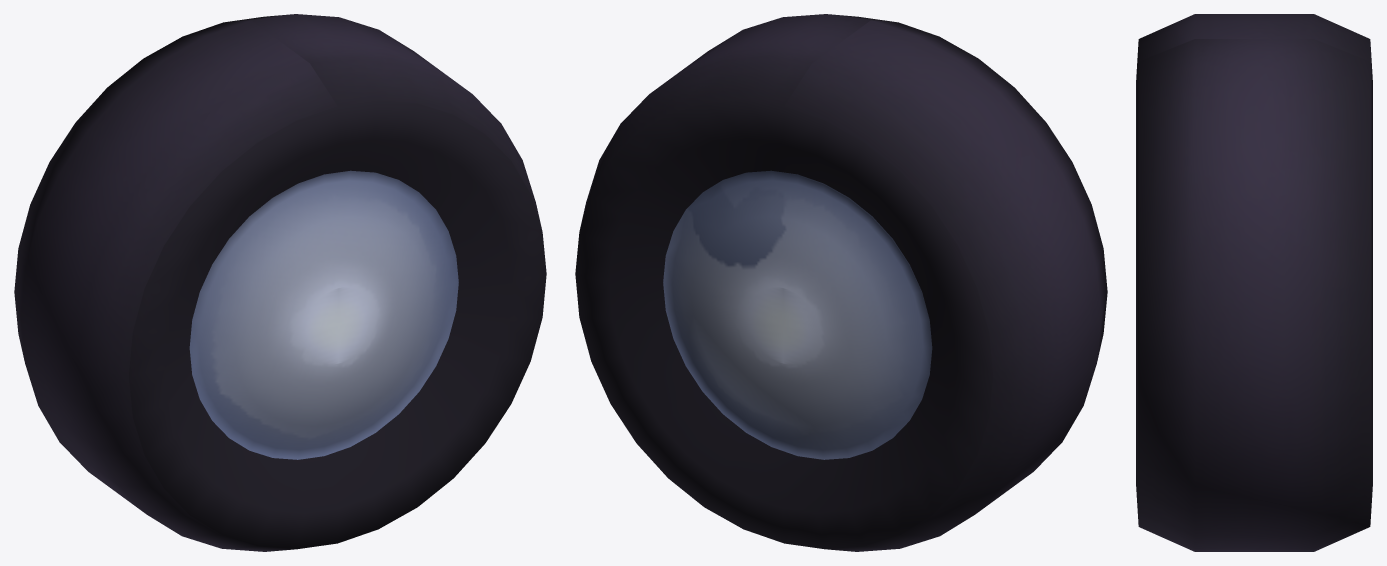
Rendered from rodatraseira.fbx.
3 renders of one model, left to right at view 1: azimuth 30°, elevation 25°; view 2: azimuth 150°, elevation 25°; view 3: azimuth 270°, elevation 25°, orthographic.
Parts seen in each view (by area): view 1: fe.001; view 2: fe.001; view 3: fe.001.
Boxes of the visible parts, x1=… form: fe.001: x1=14, y1=14, x2=546, y2=551; fe.001: x1=575, y1=14, x2=1107, y2=551; fe.001: x1=1136, y1=14, x2=1372, y2=551.
Size of the model in its own units: 37.52 by 37.52 by 16.49.
